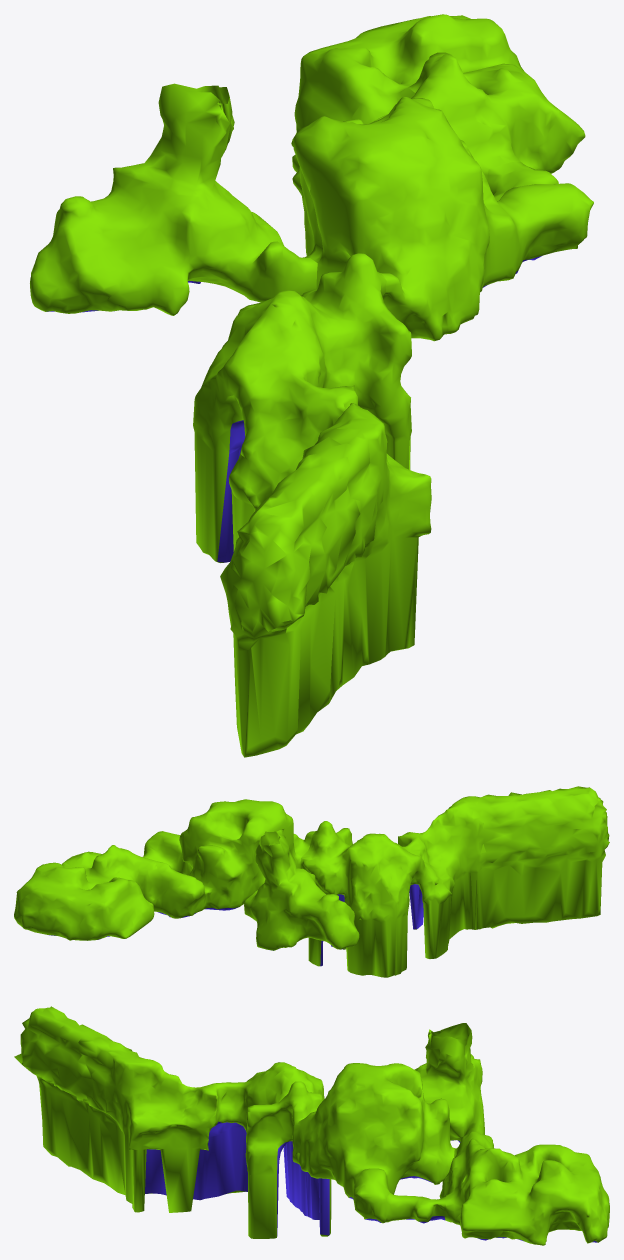
File: Cave1.FBX
3 renders of one model, top to bottom at view 1: azimuth 30°, elevation 25°; view 2: azimuth 150°, elevation 25°; view 3: azimuth 270°, elevation 25°, orthographic. The views are drawn at different scales.
Parts seen in each view (by area): view 1: room_04, room_02, room_01, room_03; view 2: room_04, room_03, room_02, room_01; view 3: room_04, room_02, room_03, room_01.
Part boxes in pixels (x1=…): room_04: x1=193, y1=253, x2=431, y2=757; room_02: x1=292, y1=97, x2=593, y2=341; room_01: x1=30, y1=83, x2=317, y2=315; room_03: x1=291, y1=14, x2=585, y2=180; room_04: x1=300, y1=786, x2=609, y2=977; room_03: x1=14, y1=845, x2=208, y2=940; room_02: x1=142, y1=799, x2=315, y2=910; room_01: x1=244, y1=829, x2=359, y2=950; room_04: x1=14, y1=1006, x2=331, y2=1238; room_02: x1=291, y1=1063, x2=454, y2=1223; room_03: x1=439, y1=1131, x2=609, y2=1245; room_01: x1=414, y1=1023, x2=484, y2=1142.
Bounding box in the file's own units: 10759 × 5061 × 13369.
